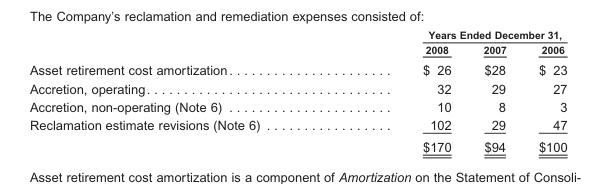table: (28, 28, 566, 153)
table column: (28, 28, 340, 153), (340, 28, 466, 153), (466, 28, 521, 153), (521, 28, 566, 153)
table column header: (28, 28, 566, 58)
table row: (28, 58, 566, 78), (28, 115, 566, 135), (28, 96, 566, 115), (28, 78, 566, 96), (28, 135, 566, 153), (28, 41, 566, 58), (28, 28, 566, 41)
table spanning cell: (340, 28, 566, 41)
